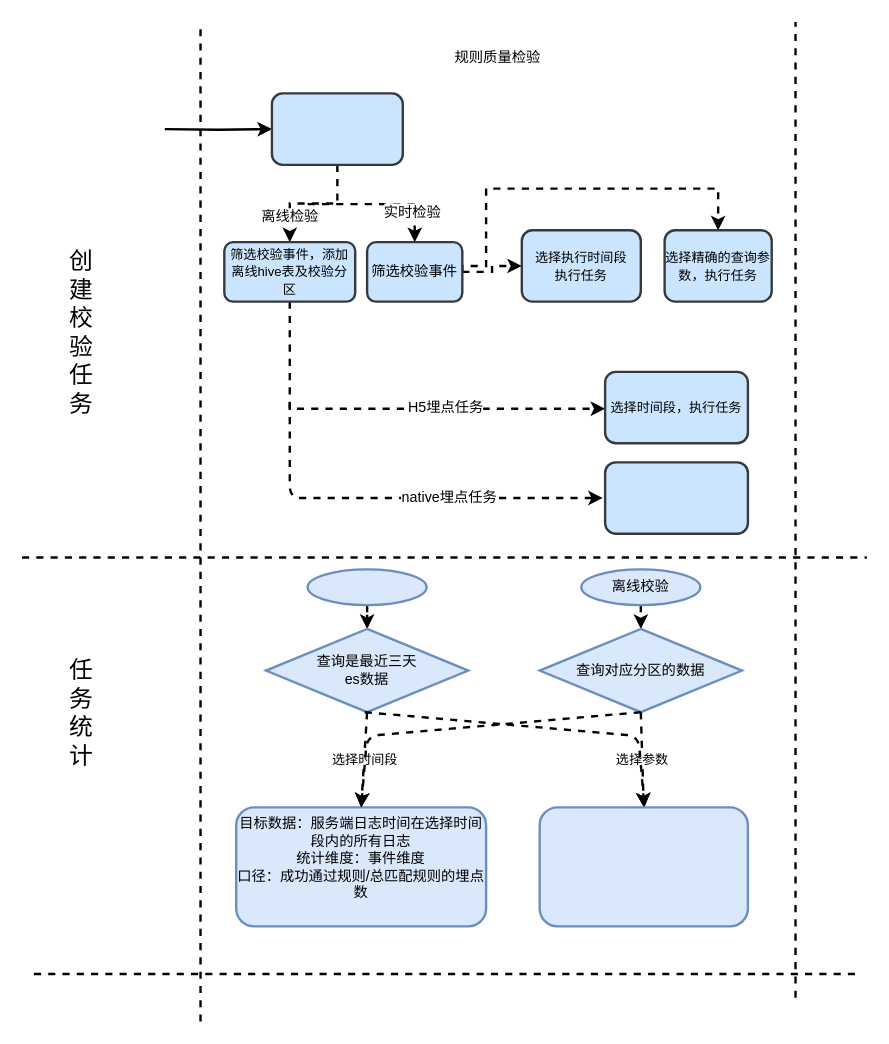
Image size: 889x1044. Some labels were removed from this diagram. Each missing label, with the box of its shape:
实时校验: (306, 568, 427, 606)
执行任务（对离线表内所有符合事件规则的埋点）: (603, 461, 749, 534)
新增校验任务: (270, 92, 403, 165)
目标数据：服务端日志符合选择参数的所有日志 统计维度：事件维度 口径：成功通过规则/总匹配规则的埋点数: (538, 806, 749, 927)
